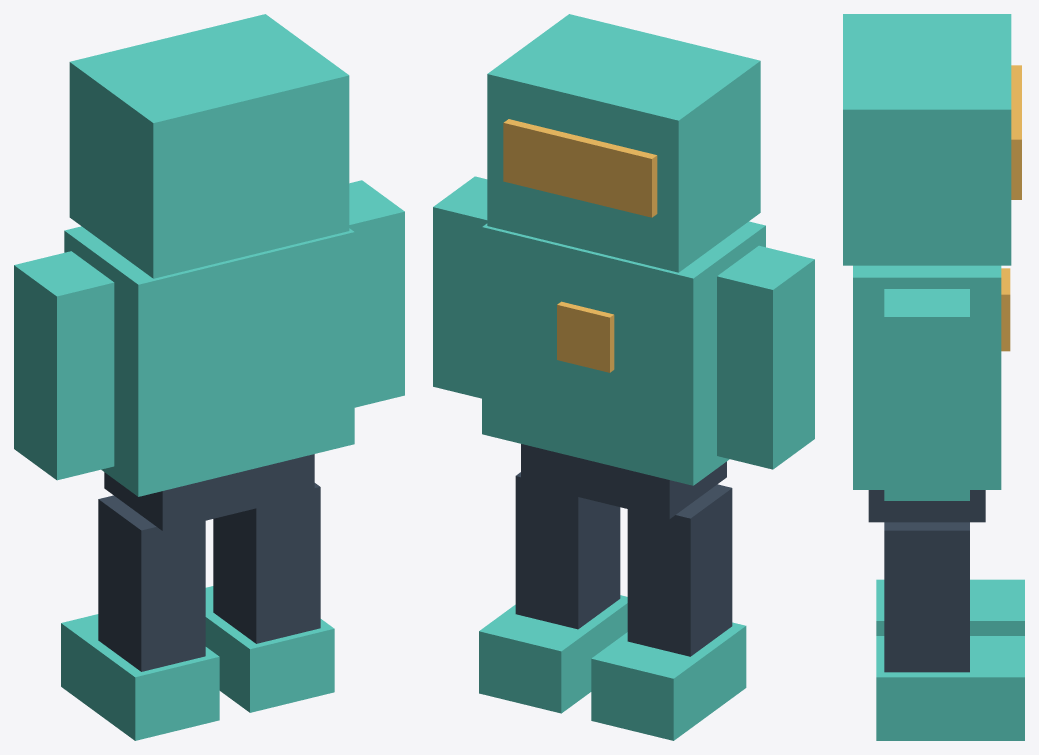
File: robot_practica.gltf
3 renders of one model, left to right at view 1: azimuth 30°, elevation 25°; view 2: azimuth 150°, elevation 25°; view 3: azimuth 270°, elevation 25°, orthographic. The views are drawn at different scales.
Parts seen in each view (by area): view 1: Cabeza, Torso, BrazoL, PiernaL, PiernaR, PieL, BrazoR, PieR, Cadera; view 2: Torso, Cabeza, BrazoL, PiernaL, PiernaR, PieL, PieR, BrazoR, Visor, Cadera, Insignia; view 3: Cabeza, BrazoR, Torso, PiernaR, PieR, PieL, Cadera, Visor, Insignia.
Part boxes in pixels (bbox=[...]): Cabeza: bbox=[69, 14, 349, 278]; Torso: bbox=[64, 226, 354, 496]; BrazoL: bbox=[14, 251, 114, 480]; PiernaL: bbox=[98, 495, 205, 671]; PiernaR: bbox=[213, 483, 320, 643]; PieL: bbox=[61, 614, 219, 740]; BrazoR: bbox=[349, 180, 404, 407]; PieR: bbox=[205, 586, 334, 712]; Cadera: bbox=[104, 454, 314, 530]; Torso: bbox=[482, 221, 765, 485]; Cabeza: bbox=[487, 14, 760, 272]; BrazoL: bbox=[717, 245, 814, 469]; PiernaL: bbox=[627, 484, 732, 656]; PiernaR: bbox=[515, 472, 620, 629]; PieL: bbox=[591, 622, 746, 740]; PieR: bbox=[479, 595, 627, 713]; BrazoR: bbox=[433, 176, 487, 398]; Visor: bbox=[503, 119, 657, 217]; Cadera: bbox=[521, 444, 726, 519]; Insignia: bbox=[557, 301, 614, 372]; Cabeza: bbox=[843, 14, 1011, 265]; BrazoR: bbox=[884, 289, 969, 500]; Torso: bbox=[853, 265, 1001, 489]; PiernaR: bbox=[884, 522, 969, 672]; PieR: bbox=[876, 636, 1024, 740]; PieL: bbox=[876, 579, 1024, 635]; Cadera: bbox=[868, 490, 985, 522]; Visor: bbox=[1011, 65, 1021, 199]; Insignia: bbox=[1001, 268, 1010, 351].
Bounding box in the file's own units: 1.03 × 1.78 × 0.465.
